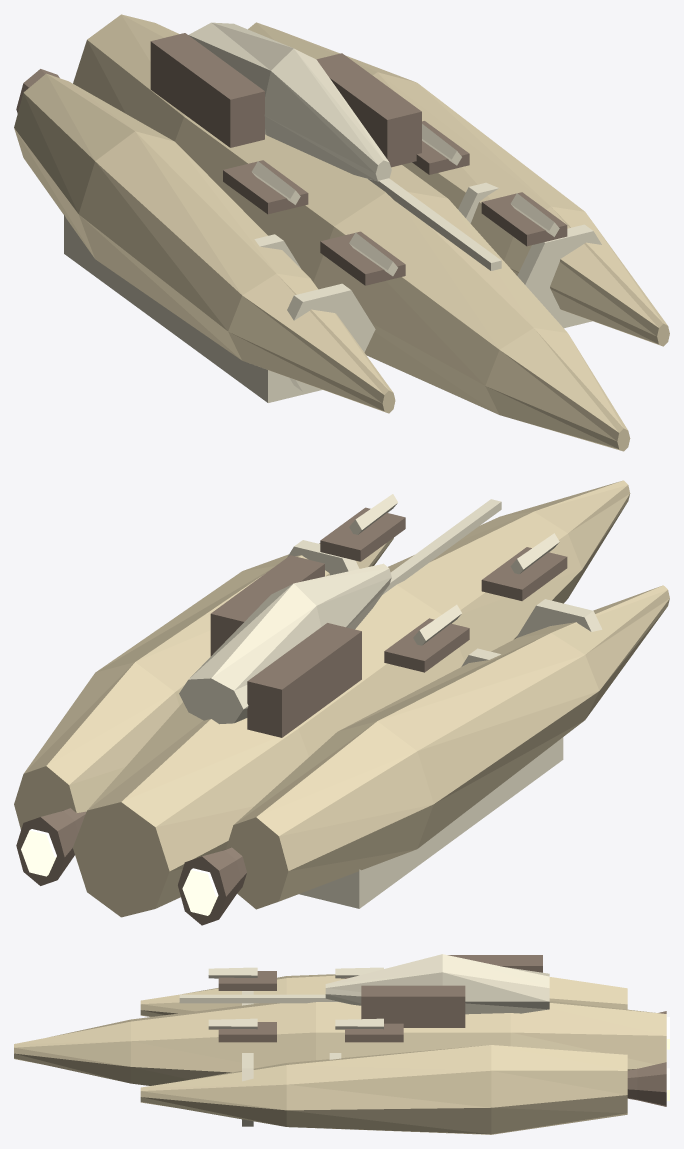
3 renders of one model, top to bottom at view 1: azimuth 30°, elevation 25°; view 2: azimuth 150°, elevation 25°; view 3: azimuth 270°, elevation 25°, orthographic. The views are drawn at different scales.
Size of the model in its own units: 6.44 by 3.83 by 15.17.
